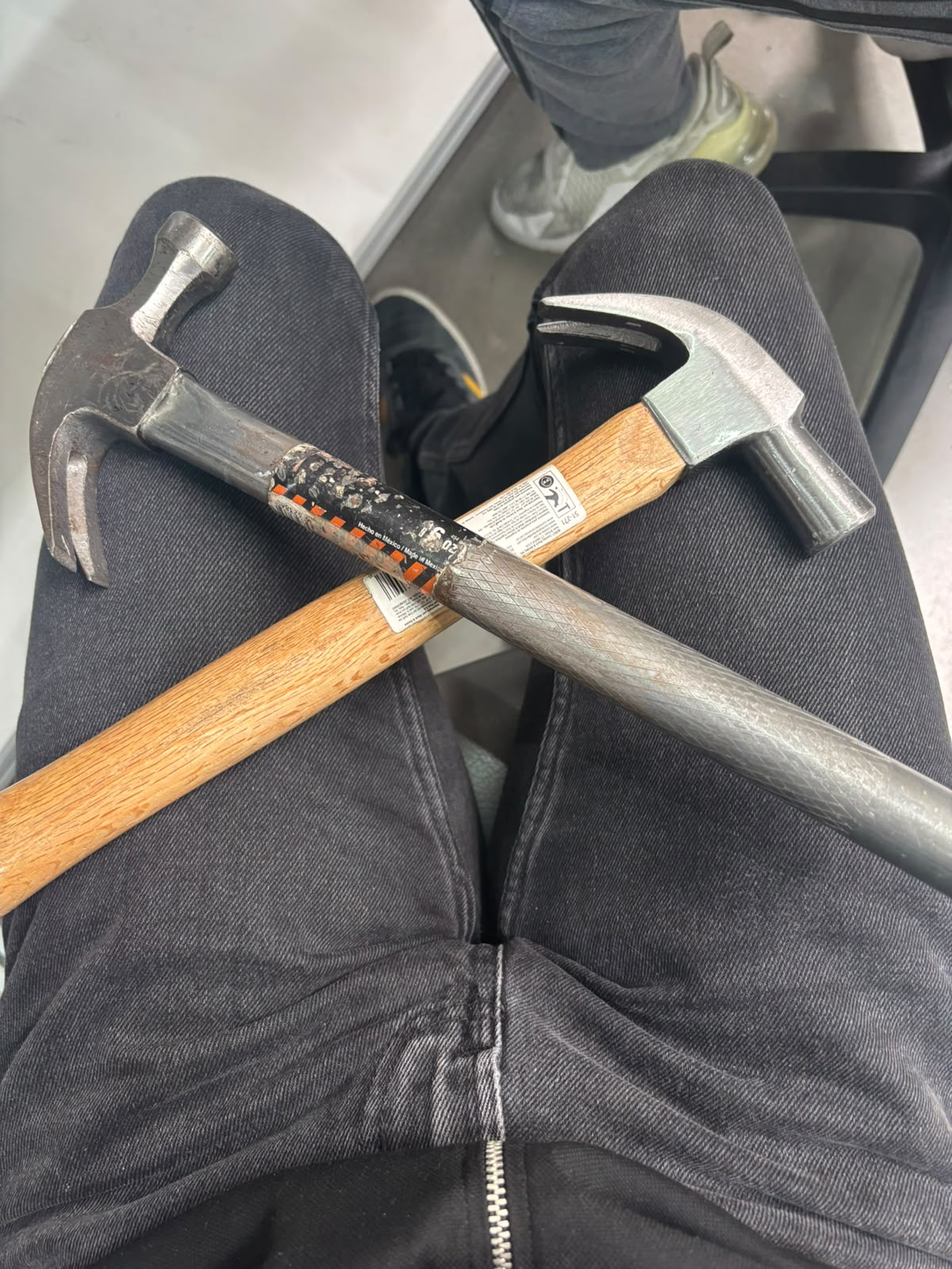hammer: (508, 216, 904, 565), (1, 182, 297, 596)
